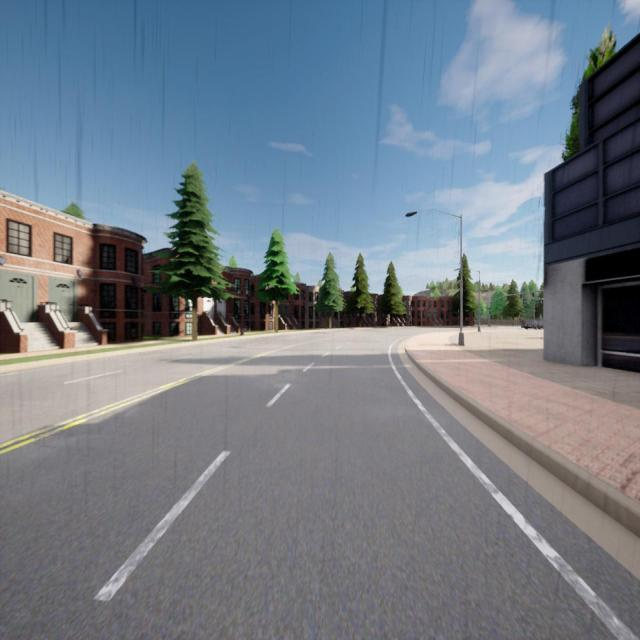Vehicle: (521, 320, 543, 330)
traffic_light: (520, 294, 522, 299), (532, 292, 534, 297)
